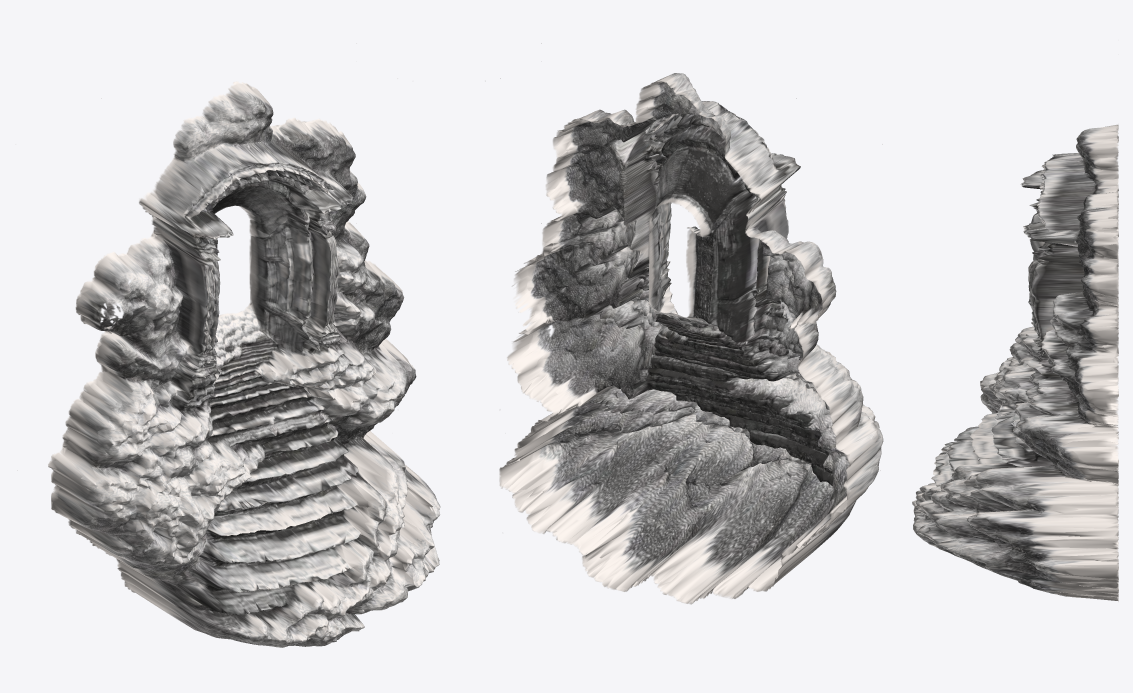
Rendered from archway.glb.
3 renders of one model, left to right at view 1: azimuth 30°, elevation 25°; view 2: azimuth 150°, elevation 25°; view 3: azimuth 270°, elevation 25°, orthographic. The views are drawn at different scales.
Visible parts, largest first — view 1: Plane; view 2: Plane; view 3: Plane.
Part boxes in pixels (bbox=[...]): Plane: bbox=[17, 43, 440, 647]; Plane: bbox=[499, 43, 883, 604]; Plane: bbox=[912, 124, 1118, 601].
Bounding box in the file's own units: 9.98 × 12.97 × 4.97.
1 material, 1 textured.
